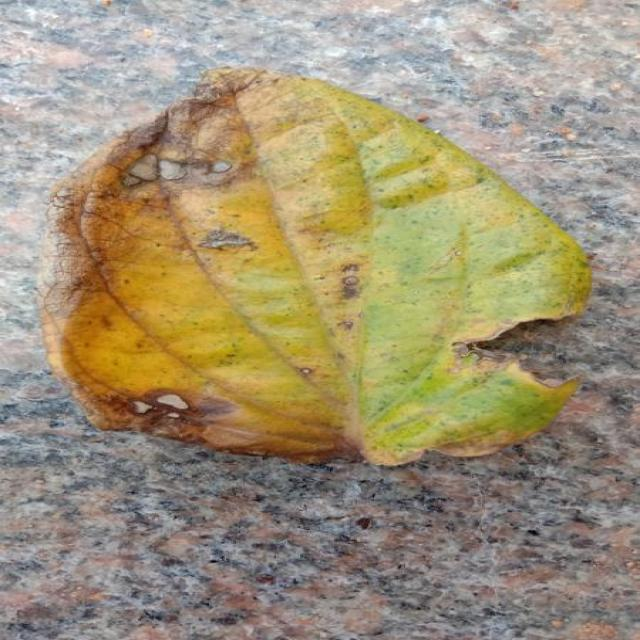defected betel: (40, 69, 590, 464)
disease in leaf: (40, 69, 590, 464)
